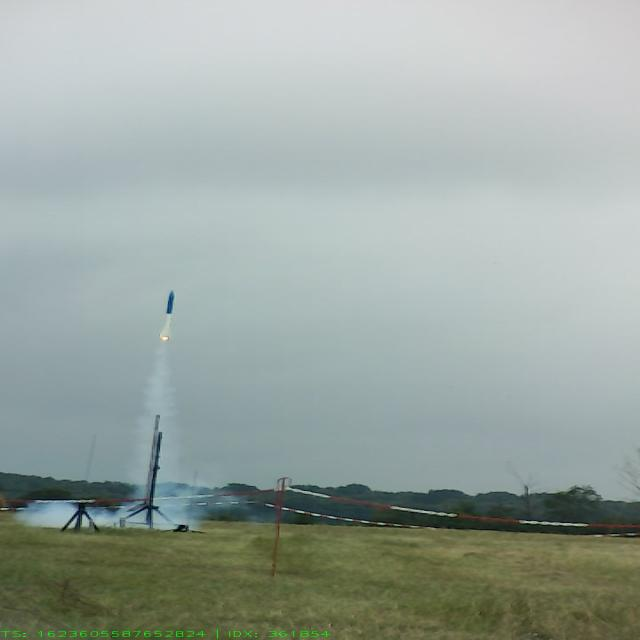Rocket: (158, 289, 176, 339)
